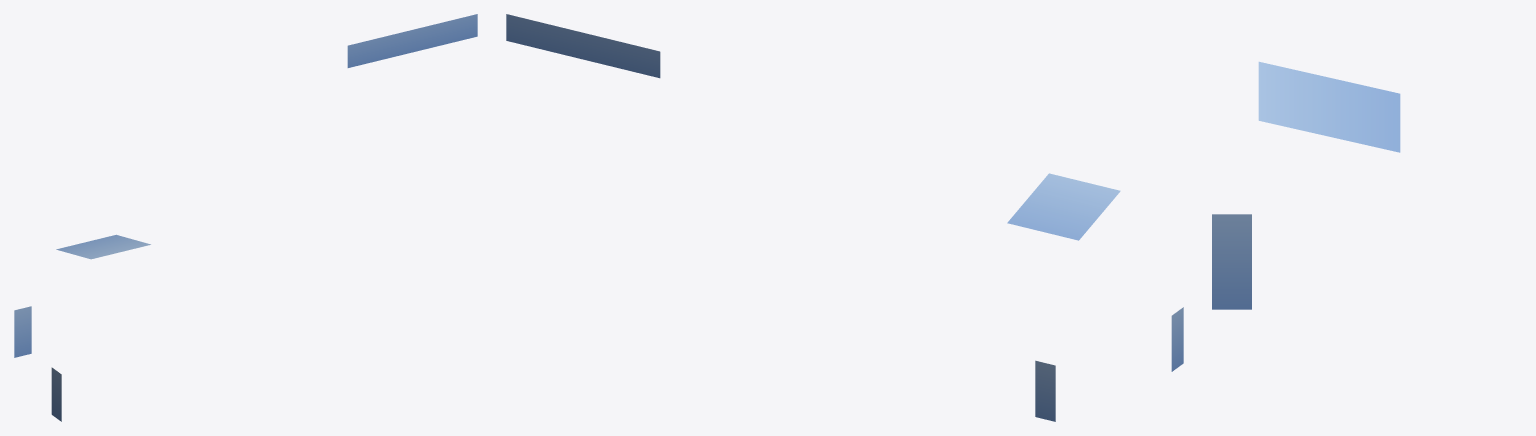
Rendered from 038_2_5_building-r_1.glb.
3 renders of one model, left to right at view 1: azimuth 30°, elevation 25°; view 2: azimuth 150°, elevation 25°; view 3: azimuth 270°, elevation 25°, orthographic. The views are drawn at different scales.
Visible parts, largest first — view 1: 2_5_building-r_1; view 2: 2_5_building-r_1; view 3: 2_5_building-r_1.
Boxes of the visible parts, x1=… form: 2_5_building-r_1: x1=14, y1=14, x2=477, y2=421; 2_5_building-r_1: x1=506, y1=14, x2=1183, y2=421; 2_5_building-r_1: x1=1212, y1=61, x2=1400, y2=309.
Size of the model in its own units: 2.28 by 1.02 by 0.62.
1 material, 1 textured.
